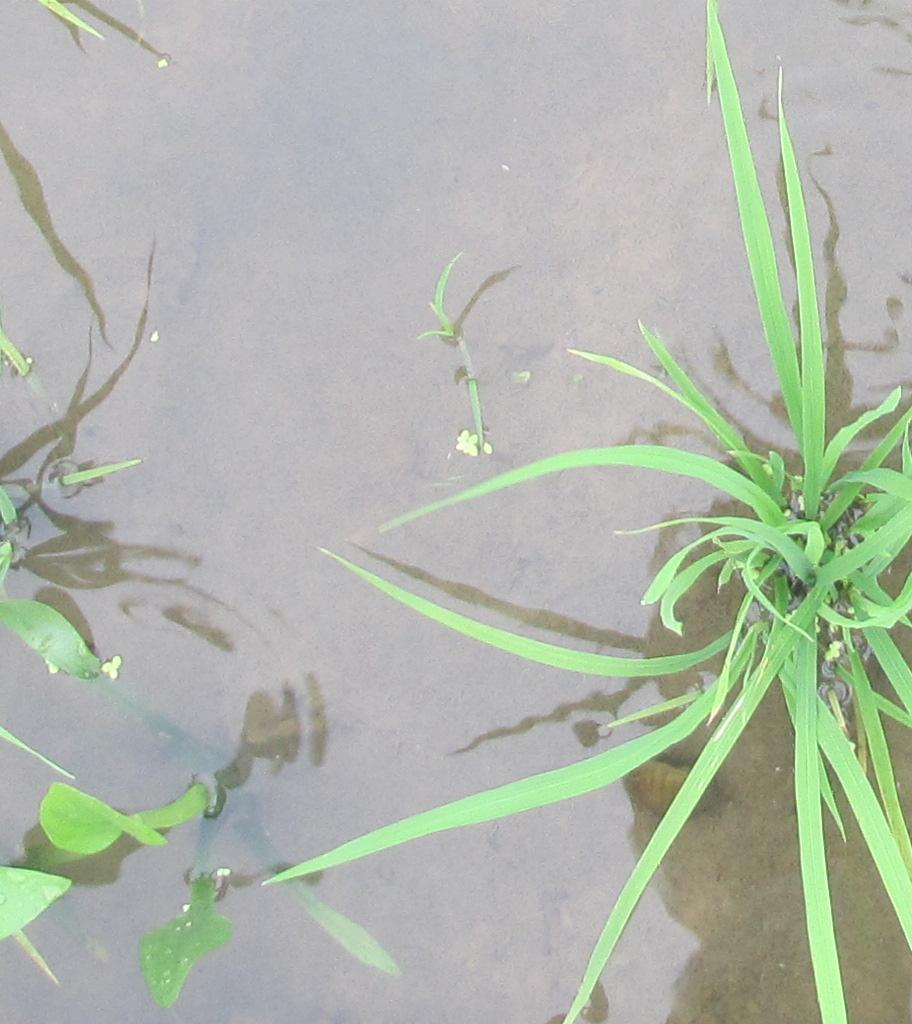Weed: (25, 767, 252, 1016)
